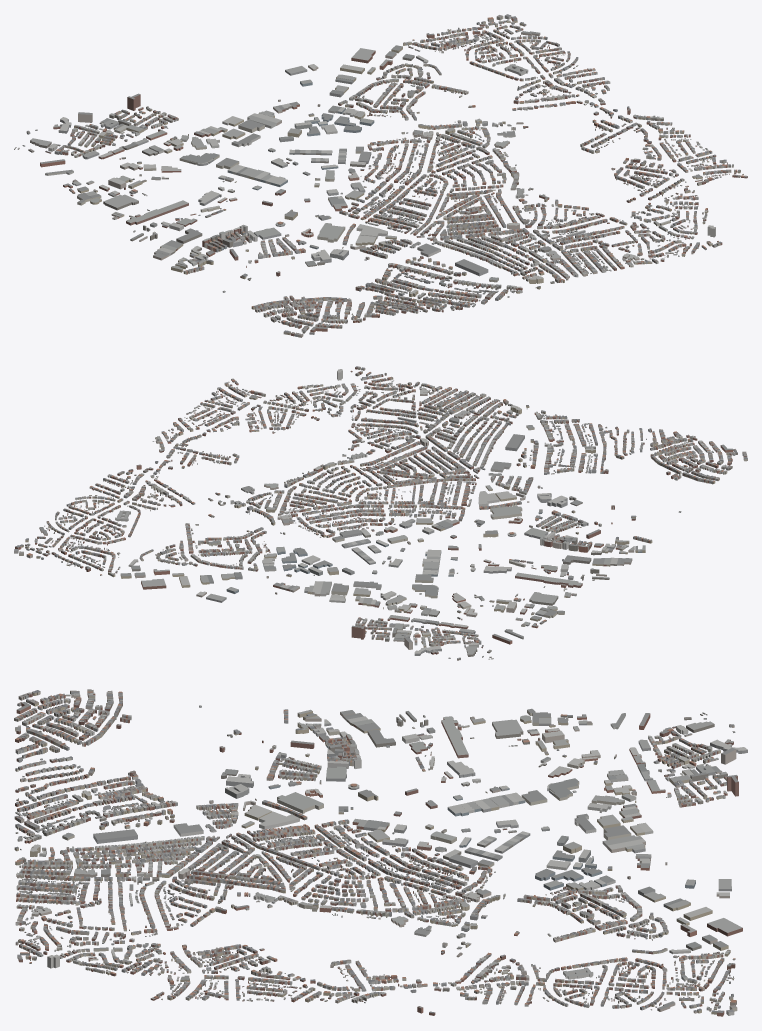
Rendered from buildings_b0_3_1.glb.
The picture shows the model from 3 angles, top to bottom: view 1: azimuth 30°, elevation 25°; view 2: azimuth 150°, elevation 25°; view 3: azimuth 270°, elevation 25°; orthographic projection. The views are drawn at different scales.
Visible parts, largest first — view 1: t14_04_buildings_b0, t13_04_buildings_b0, t13_05_buildings_b0, t15_07_buildings_b0, t14_05_buildings_b0, t12_07_buildings_b0, t14_06_buildings_b0, t14_07_buildings_b0, t12_04_buildings_b0, t13_07_buildings_b0, t15_05_buildings_b0, t12_05_buildings_b0 (+4 smaller); view 2: t14_04_buildings_b0, t13_05_buildings_b0, t14_05_buildings_b0, t13_04_buildings_b0, t14_06_buildings_b0, t15_07_buildings_b0, t14_07_buildings_b0, t12_07_buildings_b0, t12_04_buildings_b0, t12_05_buildings_b0, t13_07_buildings_b0, t15_05_buildings_b0 (+4 smaller); view 3: t14_04_buildings_b0, t13_04_buildings_b0, t13_05_buildings_b0, t14_05_buildings_b0, t15_07_buildings_b0, t14_06_buildings_b0, t14_07_buildings_b0, t12_07_buildings_b0, t12_04_buildings_b0, t13_07_buildings_b0, t13_06_buildings_b0, t15_05_buildings_b0 (+4 smaller).
Part boxes in pixels (<box>): t14_04_buildings_b0: <box>477,207,668,283</box>; t13_04_buildings_b0: <box>371,233,543,312</box>; t13_05_buildings_b0: <box>284,185,471,260</box>; t15_07_buildings_b0: <box>391,14,578,94</box>; t14_05_buildings_b0: <box>405,153,583,233</box>; t12_07_buildings_b0: <box>14,109,195,193</box>; t14_06_buildings_b0: <box>343,105,509,183</box>; t14_07_buildings_b0: <box>285,48,446,134</box>; t12_04_buildings_b0: <box>251,283,418,337</box>; t13_07_buildings_b0: <box>127,93,320,164</box>; t15_05_buildings_b0: <box>580,115,727,190</box>; t12_05_buildings_b0: <box>153,221,331,292</box>; t14_04_buildings_b0: <box>348,381,512,455</box>; t13_05_buildings_b0: <box>388,456,551,537</box>; t14_05_buildings_b0: <box>286,431,448,507</box>; t13_04_buildings_b0: <box>451,405,632,474</box>; t14_06_buildings_b0: <box>210,480,381,556</box>; t15_07_buildings_b0: <box>14,496,192,578</box>; t14_07_buildings_b0: <box>134,532,320,602</box>; t12_07_buildings_b0: <box>371,589,546,660</box>; t12_04_buildings_b0: <box>591,428,747,484</box>; t12_05_buildings_b0: <box>507,495,681,566</box>; t13_07_buildings_b0: <box>275,560,437,639</box>; t15_05_buildings_b0: <box>152,391,298,465</box>; t14_04_buildings_b0: <box>15,853,197,937</box>; t13_04_buildings_b0: <box>14,775,203,858</box>; t13_05_buildings_b0: <box>193,784,381,861</box>; t14_05_buildings_b0: <box>194,856,376,923</box>; t15_07_buildings_b0: <box>553,931,737,1016</box>; t14_06_buildings_b0: <box>373,858,563,937</box>; t14_07_buildings_b0: <box>546,860,742,944</box>; t12_07_buildings_b0: <box>548,712,747,793</box>; t12_04_buildings_b0: <box>14,689,141,785</box>; t13_07_buildings_b0: <box>549,775,738,868</box>; t13_06_buildings_b0: <box>367,785,553,868</box>; t15_05_buildings_b0: <box>194,944,375,1003</box>.
Size of the model in its own units: 2030 by 84.07 by 2046.
